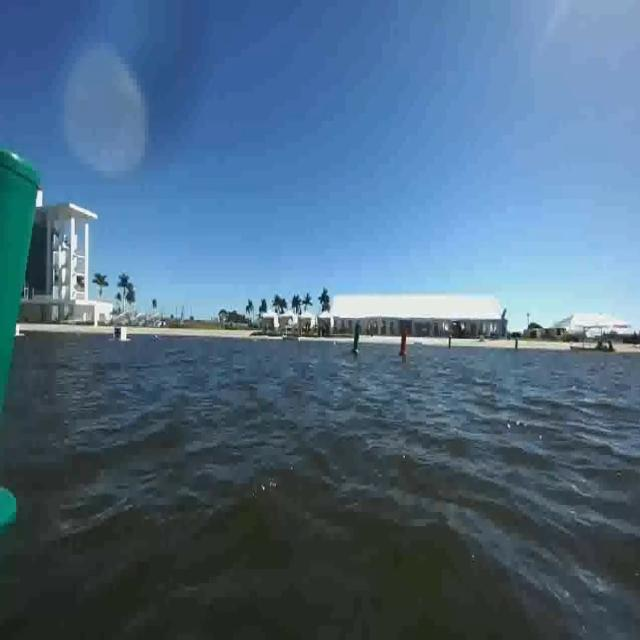green-column-buoy: (0, 141, 41, 542), (352, 322, 362, 356)
red-column-buoy: (398, 327, 409, 357)
